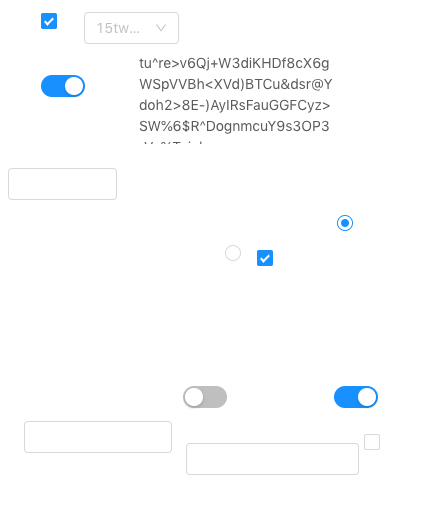Checkbox: (257, 247, 273, 268), (364, 431, 380, 452), (41, 10, 57, 31)
Input: (186, 443, 359, 475), (24, 421, 172, 453), (8, 168, 117, 200)
Radio: (337, 212, 353, 232), (225, 242, 241, 262)
Select: (84, 12, 179, 44)
Switch: (183, 385, 227, 409), (41, 74, 85, 98), (334, 385, 378, 409)
Text: (139, 52, 333, 144)
